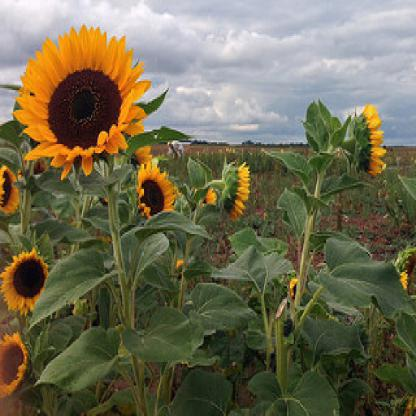SUN FLOWER: (11, 12, 403, 394)
